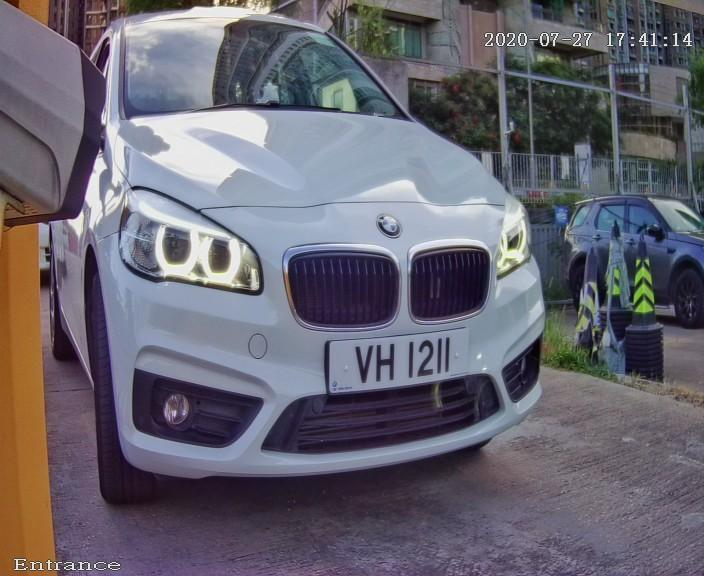privatecar: (45, 18, 620, 510)
